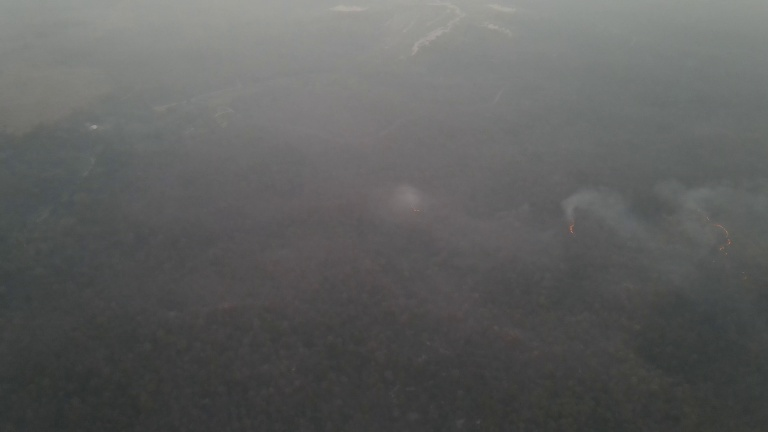fire: (699, 211, 734, 257), (566, 215, 574, 240)
smoke: (662, 172, 768, 300), (561, 181, 656, 266), (387, 183, 432, 220)
